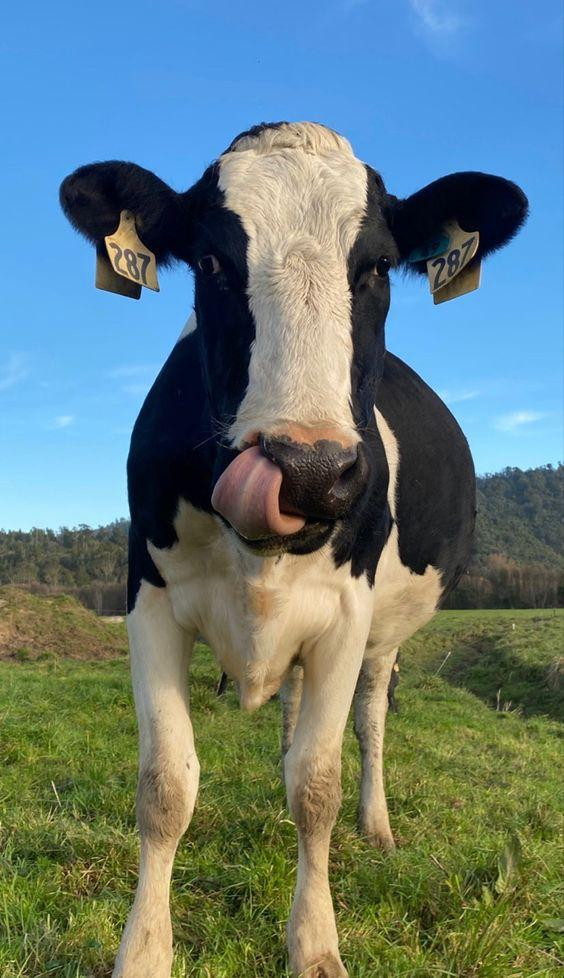cow: (40, 95, 530, 920)
